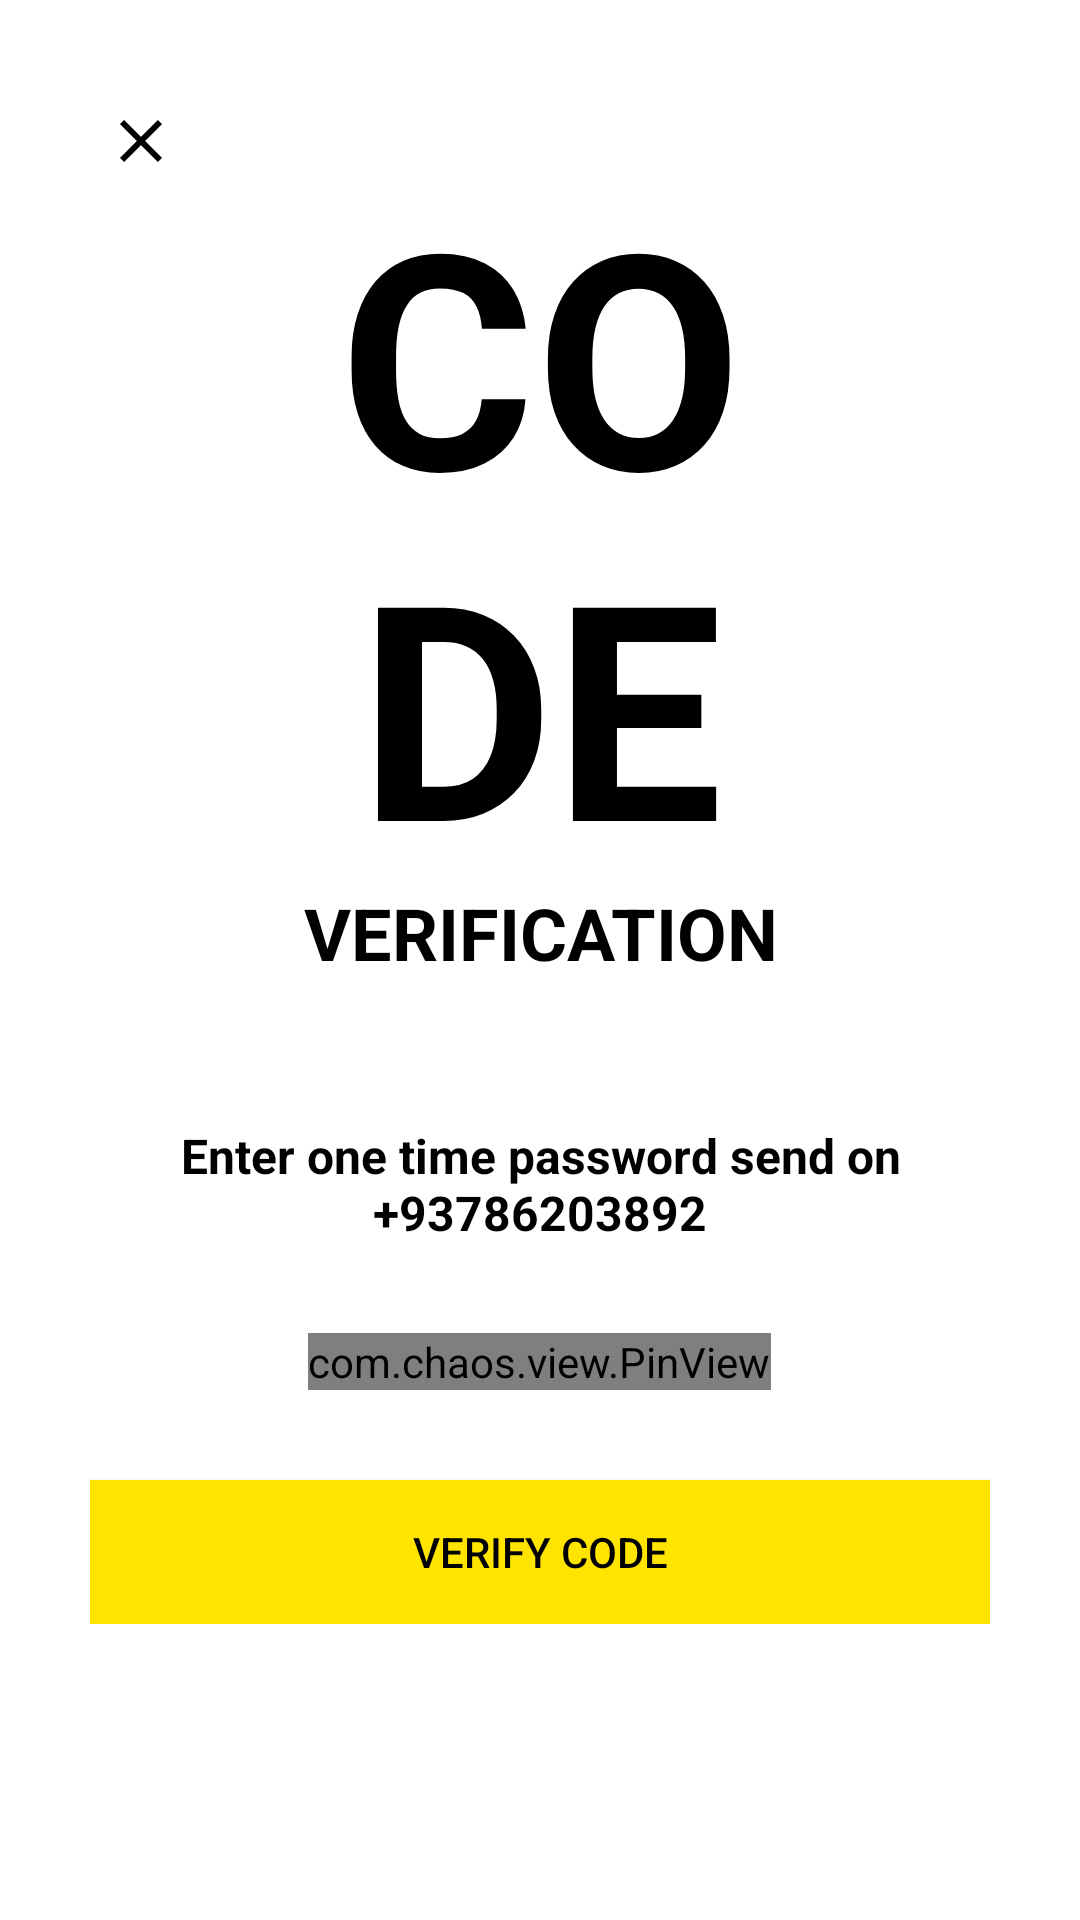

Icon click points for this 1080px×1920px phone screenshot, format [x,y]:
general close: [141,141]
